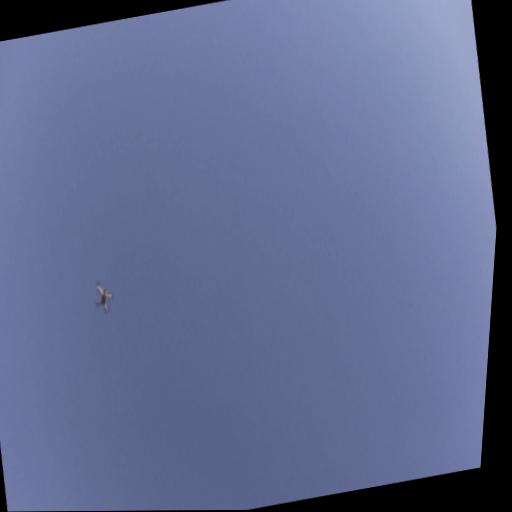drones: (88, 270, 120, 320)
